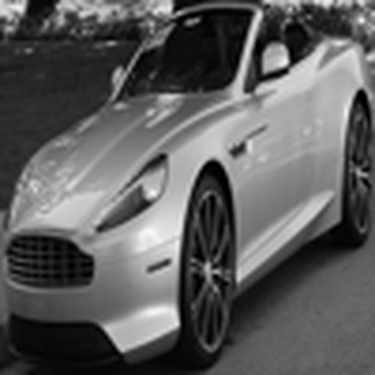car: (5, 2, 369, 372)
